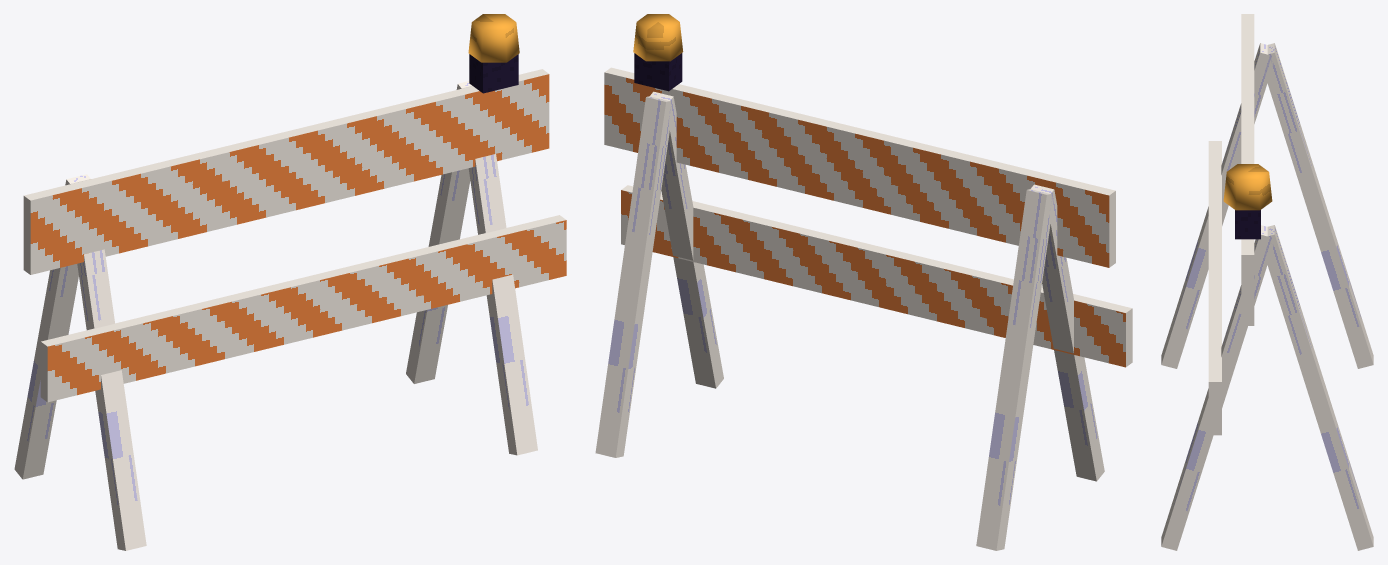
The model's file is Barricade.fbx.
3 renders of one model, left to right at view 1: azimuth 30°, elevation 25°; view 2: azimuth 150°, elevation 25°; view 3: azimuth 270°, elevation 25°, orthographic. The views are drawn at different scales.
Visible parts, largest first — view 1: Barricade board 0, Barricade board 1, Barricade leg -1 -1, Barricade leg 1 -1, Barricade leg -1 1, Barricade leg 1 1, Barricade lamp lens, Barricade lamp box; view 2: Barricade board 0, Barricade board 1, Barricade leg 1 1, Barricade leg -1 1, Barricade leg -1 -1, Barricade leg 1 -1, Barricade lamp lens, Barricade lamp box; view 3: Barricade leg -1 1, Barricade leg 1 1, Barricade leg 1 -1, Barricade leg -1 -1, Barricade board 1, Barricade board 0, Barricade lamp lens, Barricade lamp box.
Boxes of the visible parts, <box> form: Barricade board 0: <box>23,69,549,274</box>; Barricade board 1: <box>40,215,566,402</box>; Barricade leg -1 -1: <box>66,179,146,550</box>; Barricade leg 1 -1: <box>457,86,537,455</box>; Barricade leg -1 1: <box>14,174,90,479</box>; Barricade leg 1 1: <box>406,81,472,383</box>; Barricade lamp lens: <box>468,14,519,62</box>; Barricade lamp box: <box>469,54,518,93</box>; Barricade board 0: <box>604,67,1115,267</box>; Barricade board 1: <box>621,185,1132,367</box>; Barricade leg 1 1: <box>595,96,671,457</box>; Barricade leg -1 1: <box>976,189,1054,550</box>; Barricade leg -1 -1: <box>1031,184,1104,481</box>; Barricade leg 1 -1: <box>650,91,723,388</box>; Barricade lamp lens: <box>633,14,683,61</box>; Barricade lamp box: <box>634,53,682,91</box>; Barricade leg -1 1: <box>1259,43,1373,368</box>; Barricade leg 1 1: <box>1260,225,1373,550</box>; Barricade leg 1 -1: <box>1161,225,1275,550</box>; Barricade leg -1 -1: <box>1161,43,1275,368</box>; Barricade board 1: <box>1208,141,1221,435</box>; Barricade board 0: <box>1241,14,1254,325</box>; Barricade lamp lens: <box>1223,164,1272,210</box>; Barricade lamp box: <box>1235,210,1260,239</box>.
Bounding box in the file's own units: 1.75 × 1.29 × 0.6513.
Materials: 4 (4 with a texture image).
